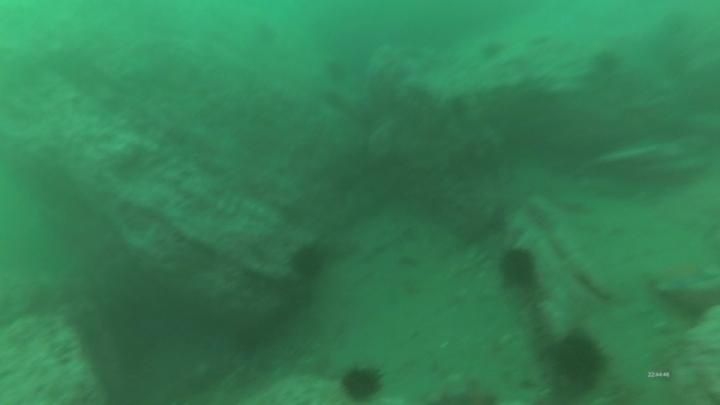echinus: (547, 328, 611, 391), (496, 244, 539, 290), (338, 362, 386, 403), (287, 241, 328, 281), (589, 47, 624, 79), (478, 38, 507, 63)
starfish: (649, 257, 718, 296)
